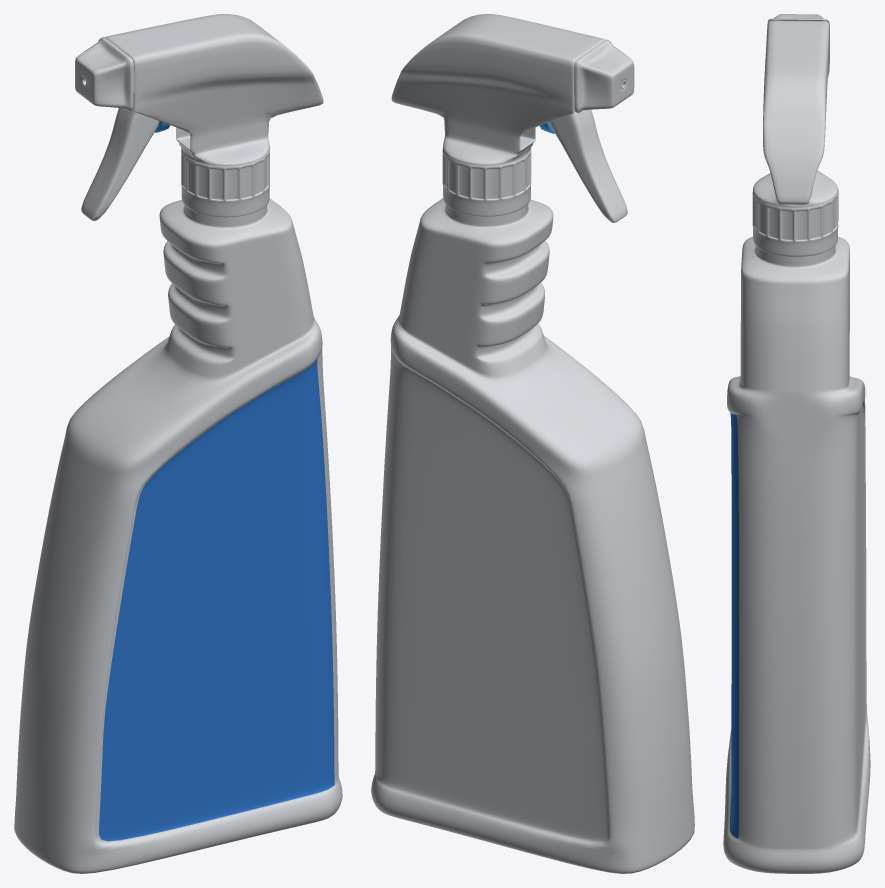
File: SprayBottle.fbx
3 views of the same model, side by side, from view 1: azimuth 30°, elevation 25°; view 2: azimuth 150°, elevation 25°; view 3: azimuth 270°, elevation 25° (orthographic). The views are drawn at different scales.
Visible parts, largest first — view 1: Cube.009, Cube.008; view 2: Cube.009, Cube.008; view 3: Cube.009, Cube.008.
Boxes of the visible parts, x1,y1,x2,y2 form: Cube.009: [14, 198, 342, 873]; Cube.008: [75, 14, 323, 220]; Cube.009: [371, 198, 694, 873]; Cube.008: [391, 14, 634, 222]; Cube.009: [723, 236, 870, 873]; Cube.008: [752, 14, 838, 256].
Bounding box in the file's own units: 0.5186 × 1.34 × 0.235.
